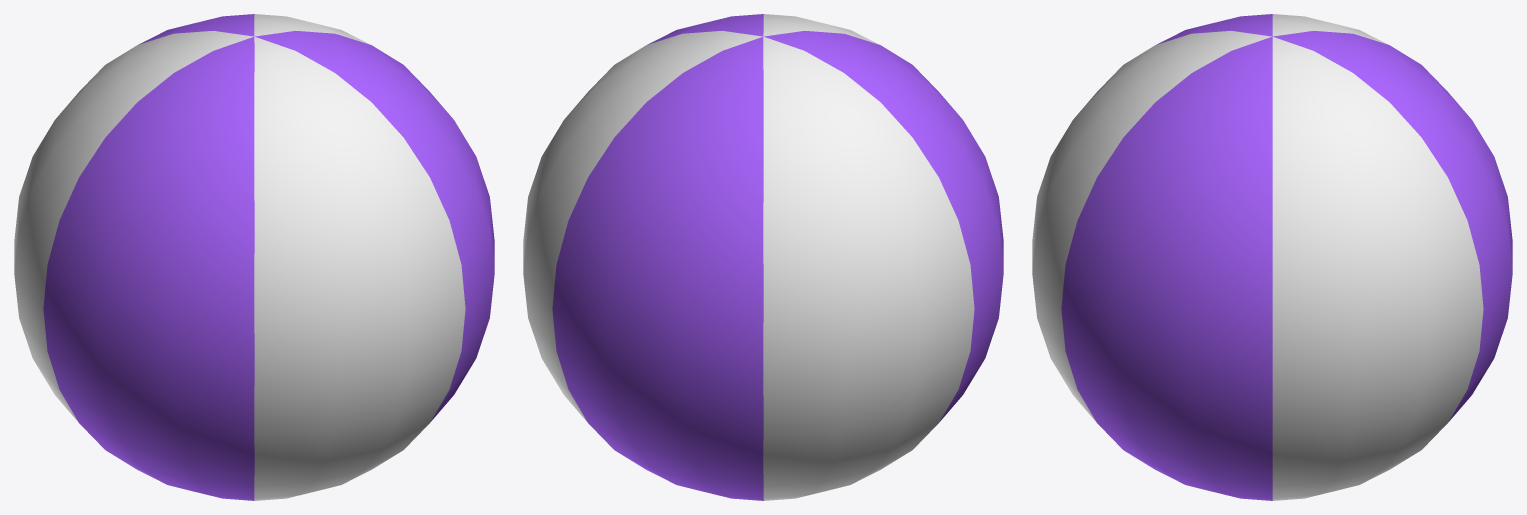
Rendered from Volleyball_Purple.fbx.
The picture shows the model from 3 angles, left to right: view 1: azimuth 30°, elevation 25°; view 2: azimuth 150°, elevation 25°; view 3: azimuth 270°, elevation 25°; orthographic projection.
Parts seen in each view (by area): view 1: Volleyball_Purple; view 2: Volleyball_Purple; view 3: Volleyball_Purple.
Part boxes in pixels (bbox=[...]): Volleyball_Purple: bbox=[14, 14, 494, 500]; Volleyball_Purple: bbox=[523, 14, 1003, 500]; Volleyball_Purple: bbox=[1032, 14, 1512, 500].
Size of the model in its own units: 96.75 by 96.75 by 95.28.
